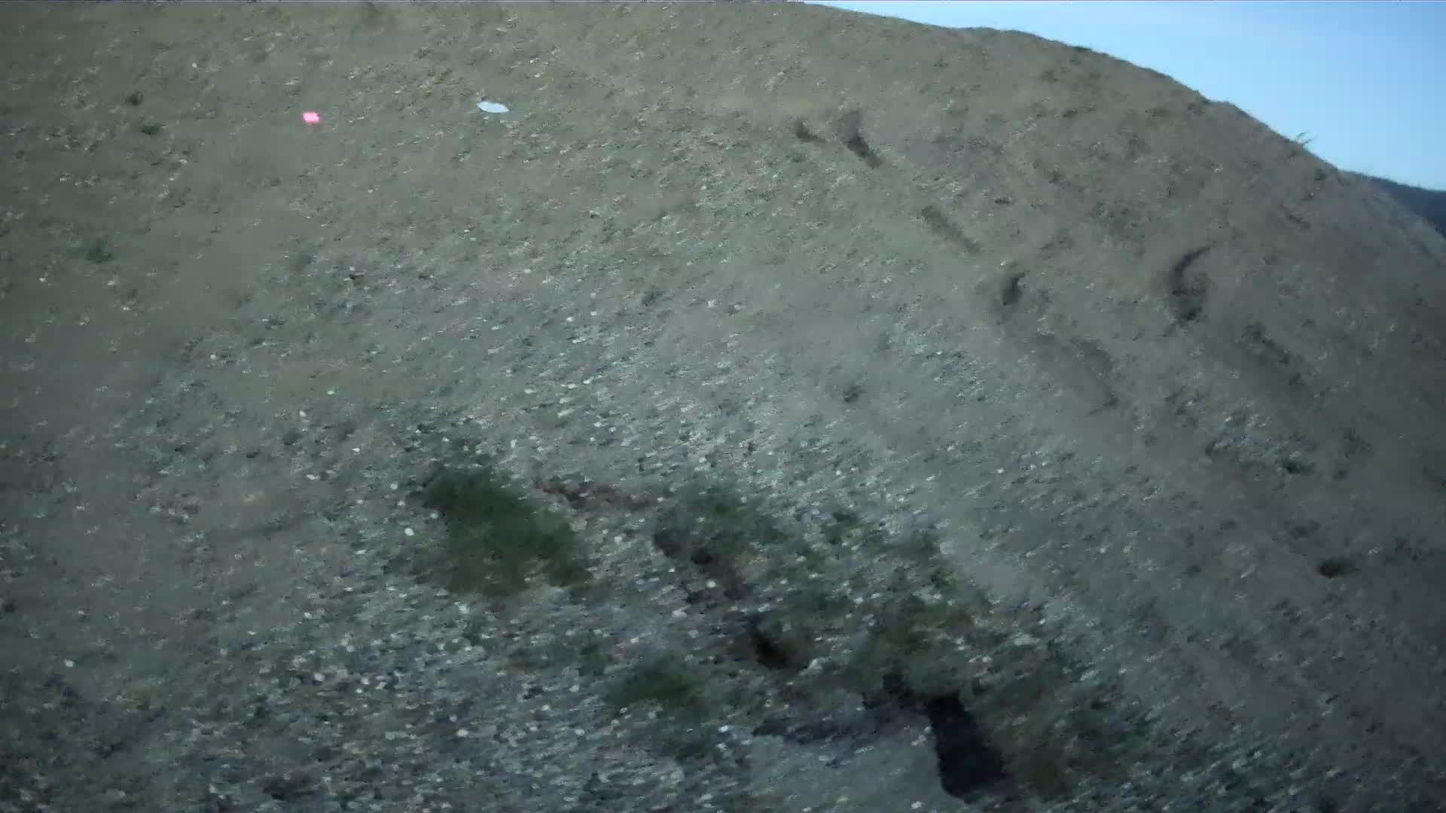Target: (476, 100, 509, 114)
